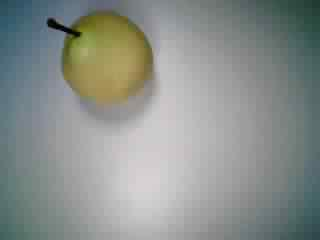pear: (41, 7, 160, 107)
